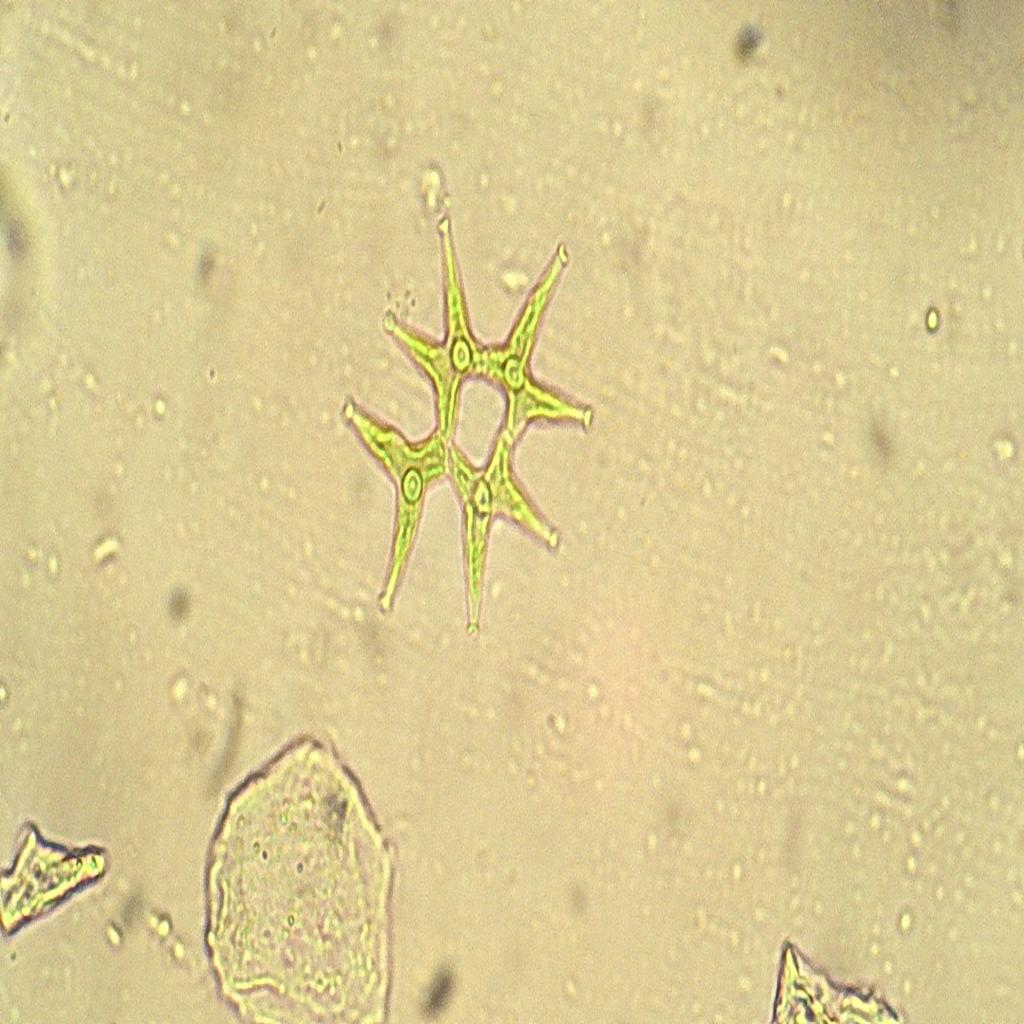Pediastrum_75FI: (331, 179, 606, 663)
